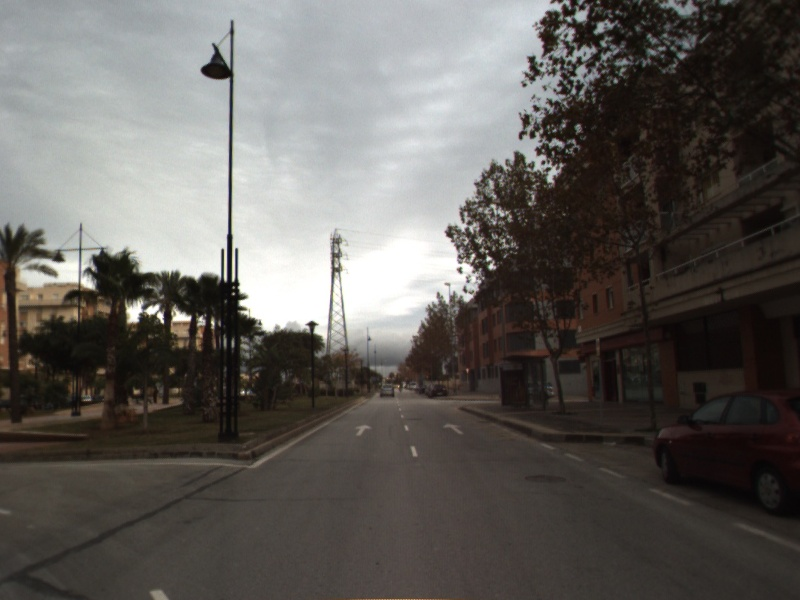STRAIGHT: (441, 421, 466, 436), (353, 422, 374, 438)
